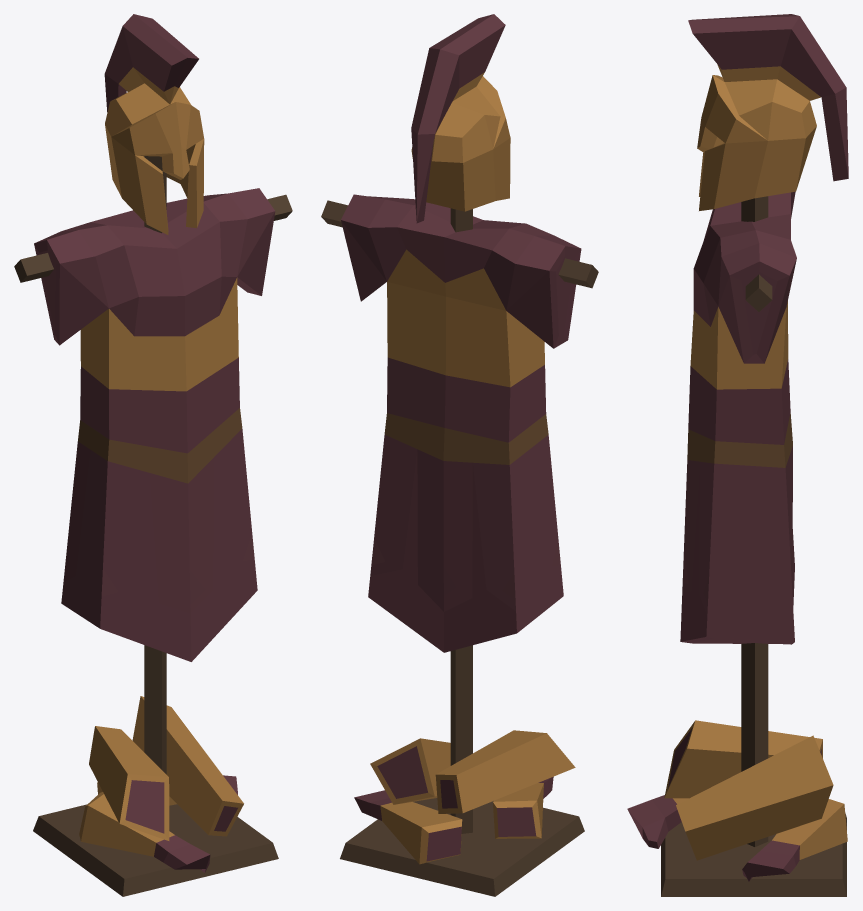
File: empire-armor-stand-greek-empire.glb
3 renders of one model, left to right at view 1: azimuth 30°, elevation 25°; view 2: azimuth 150°, elevation 25°; view 3: azimuth 270°, elevation 25°, orthographic. The views are drawn at different scales.
Visible parts, largest first — view 1: SM_Armor_Stand_Greek_Empire; view 2: SM_Armor_Stand_Greek_Empire; view 3: SM_Armor_Stand_Greek_Empire.
Boxes of the visible parts, left/top/right/bottom form: SM_Armor_Stand_Greek_Empire: left=14, top=14, right=292, bottom=896; SM_Armor_Stand_Greek_Empire: left=321, top=14, right=598, bottom=896; SM_Armor_Stand_Greek_Empire: left=627, top=14, right=848, bottom=896.
Size of the model in its own units: 0.6689 by 1.96 by 0.4677.
